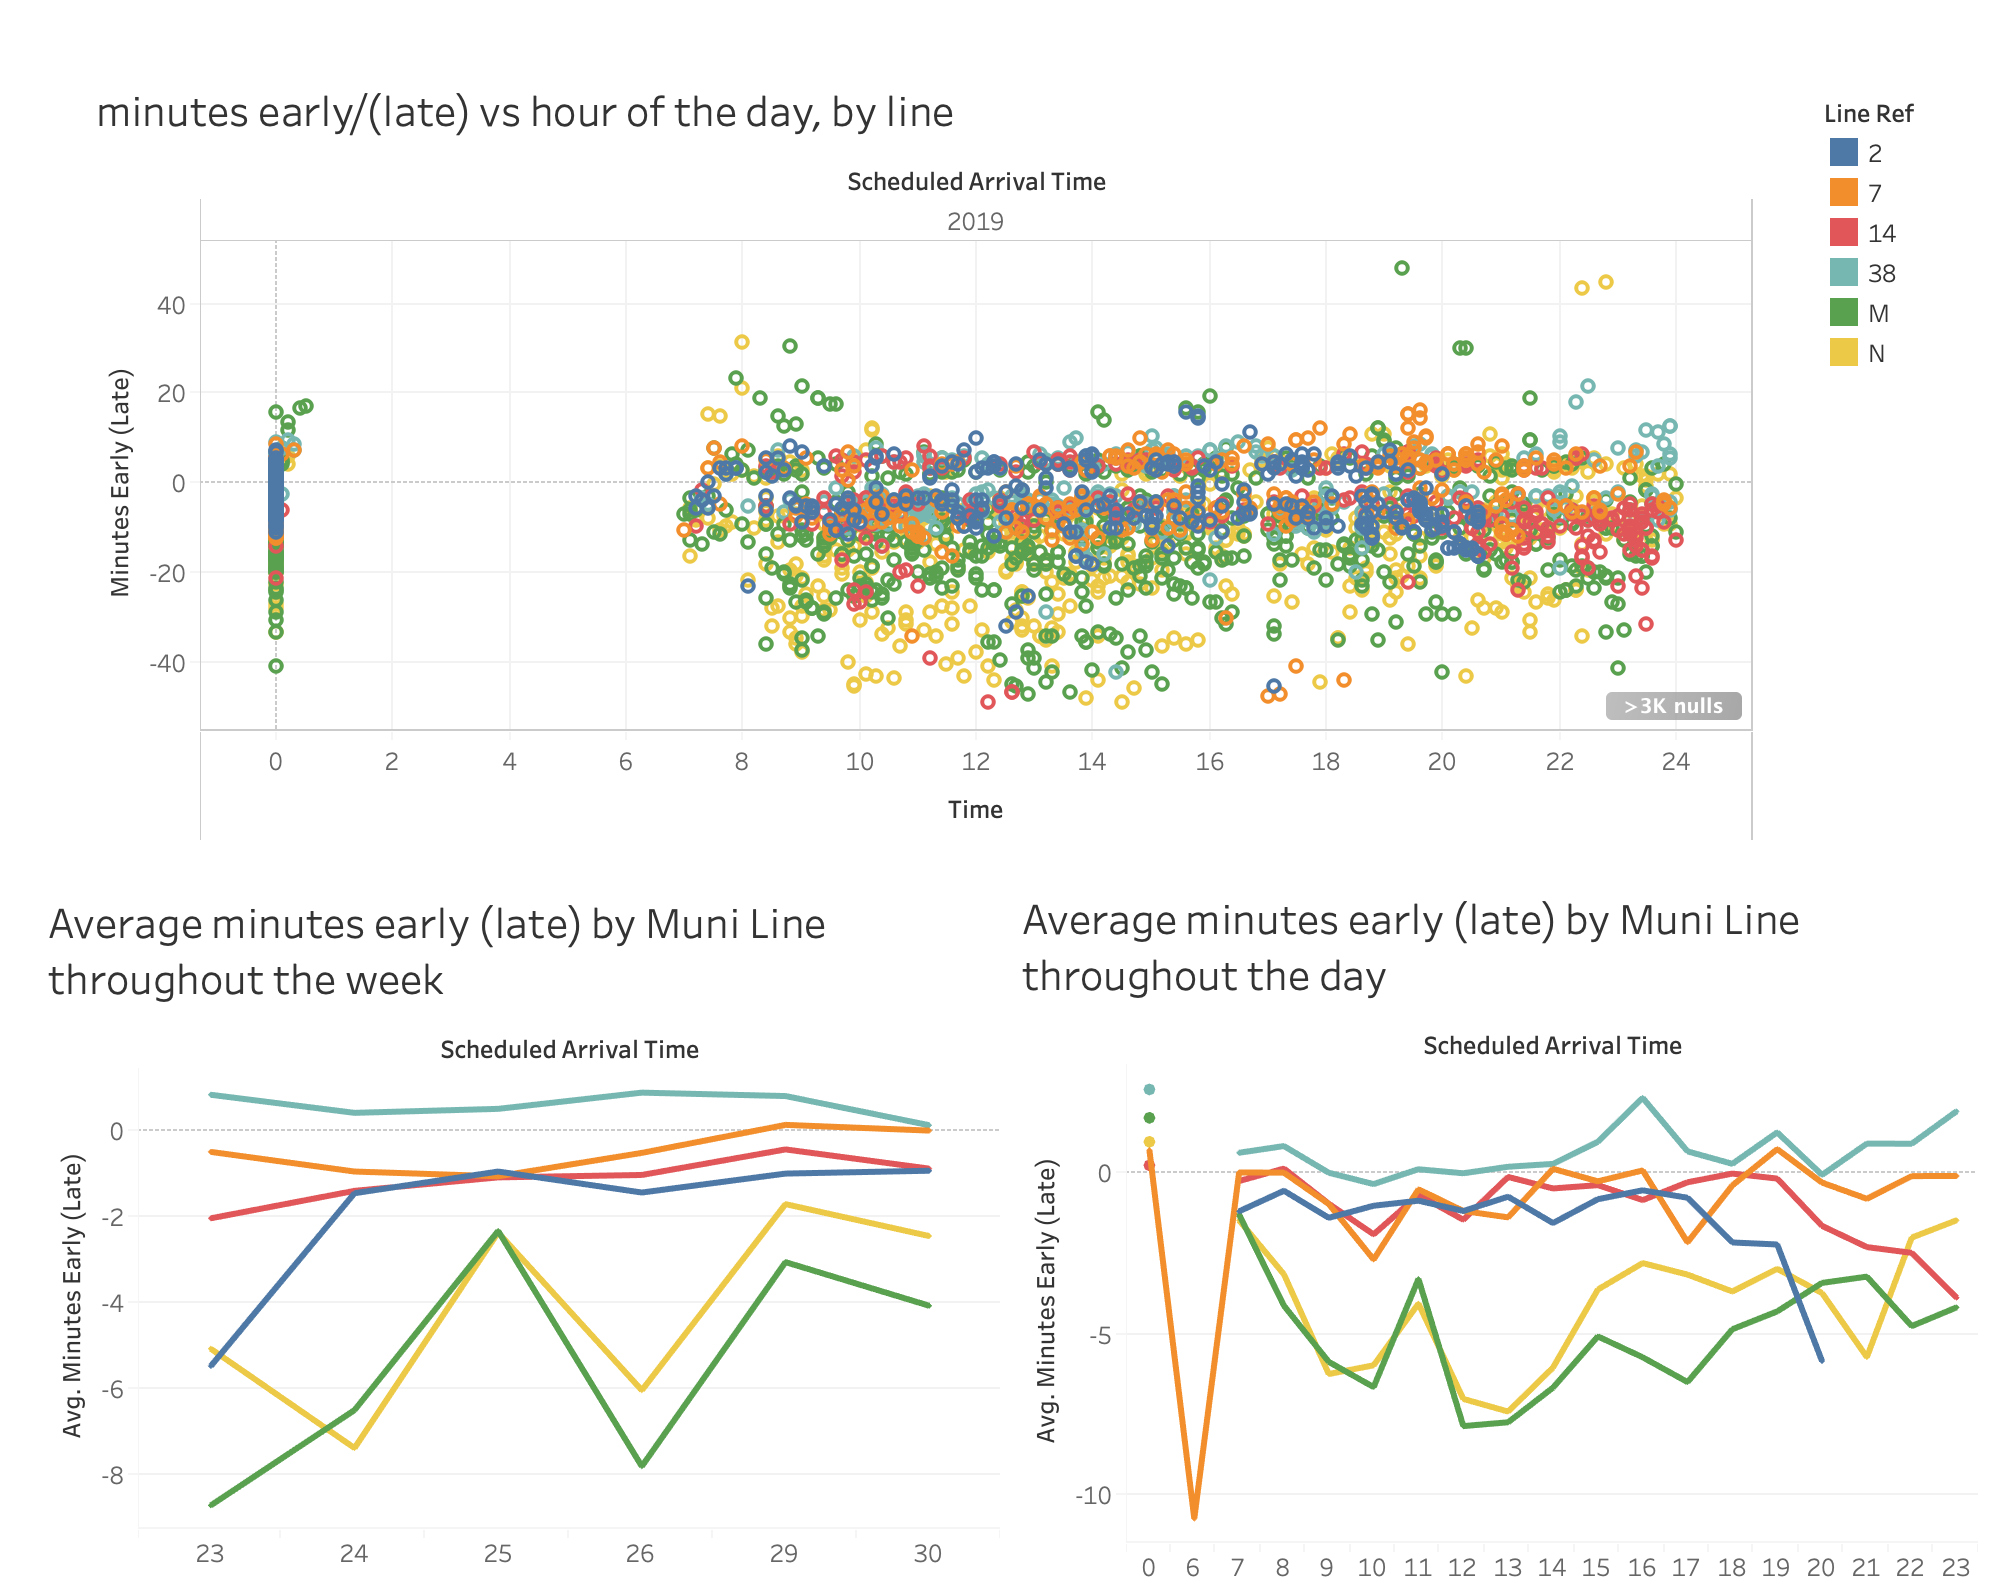

Layout of this report page (visuals, bound fields, positions):
{"tool":"tableau","page":{"name":"Dashboard 4","canvas":[1000,800],"ordinal":3},"visuals":[{"type":"worksheet","title":"Min early vs hour scatter","mark":"Shape","rows":["minutes_early"],"cols":["Scheduled Arrival Time","time"],"box":[45,37,833,384]},{"type":"legend","title":"Min early vs hour scatter","param":"[federated.05fa2q312u9x0j11vuz9n1d4rpli].[none:line_ref:nk]","box":[913,48,70,138]},{"type":"worksheet","title":"Min early by line & hour","mark":"Automatic","rows":["minutes_early"],"cols":["Scheduled Arrival Time"],"box":[508,441,482,351]},{"type":"worksheet","title":"Min early by line & day","mark":"Automatic","rows":["minutes_early"],"cols":["Scheduled Arrival Time"],"box":[21,443,480,342]}]}

Visuals, with their boxes in screenshot pixels (x1, y1, x2, y2), scaled from the page's 1000x800 canvas onto the 1992x1596 screenshot:
"Min early vs hour scatter" worksheet (Shape marks): x1=90, y1=74, x2=1749, y2=840
"Min early vs hour scatter" legend: x1=1819, y1=96, x2=1958, y2=371
"Min early by line & hour" worksheet: x1=1012, y1=880, x2=1972, y2=1580
"Min early by line & day" worksheet: x1=42, y1=884, x2=998, y2=1566
